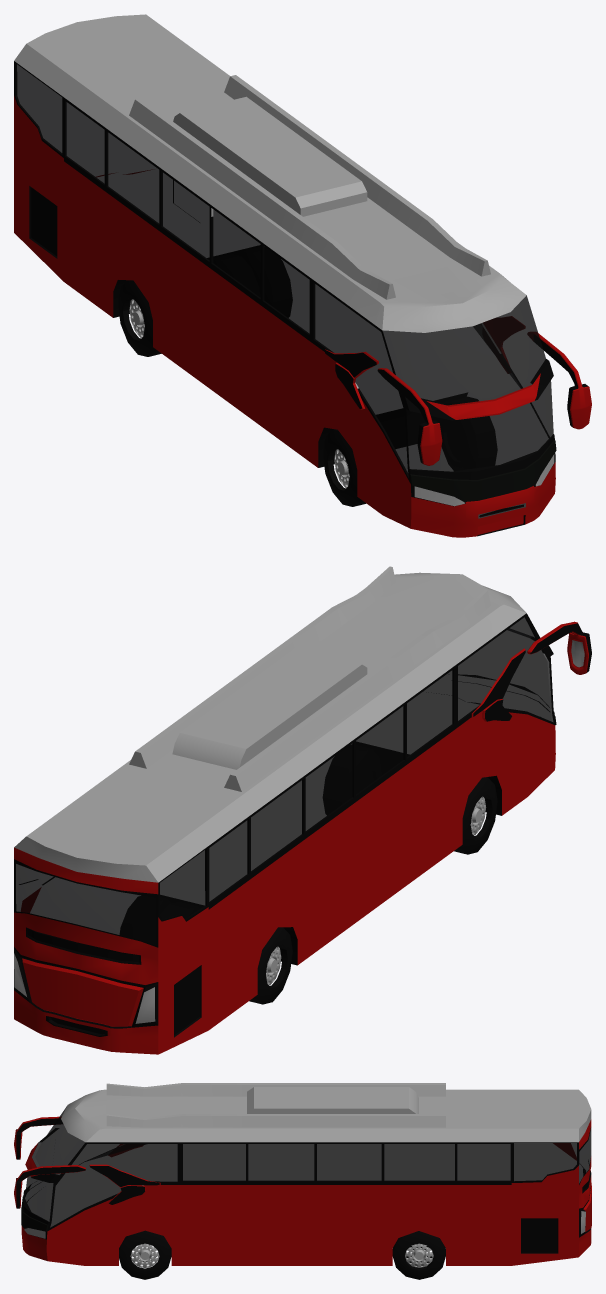
The picture shows the model from 3 angles, top to bottom: view 1: azimuth 30°, elevation 25°; view 2: azimuth 150°, elevation 25°; view 3: azimuth 270°, elevation 25°; orthographic projection. The views are drawn at different scales.
Visible parts, largest first — view 1: body_bus_Cube; view 2: body_bus_Cube; view 3: body_bus_Cube.
Part boxes in pixels (x1,y1,x2,y2): body_bus_Cube: (14,14,591,537); body_bus_Cube: (14,566,591,1054); body_bus_Cube: (14,1083,591,1279).
Bounding box in the file's own units: 3.66 × 4.87 × 15.95.
